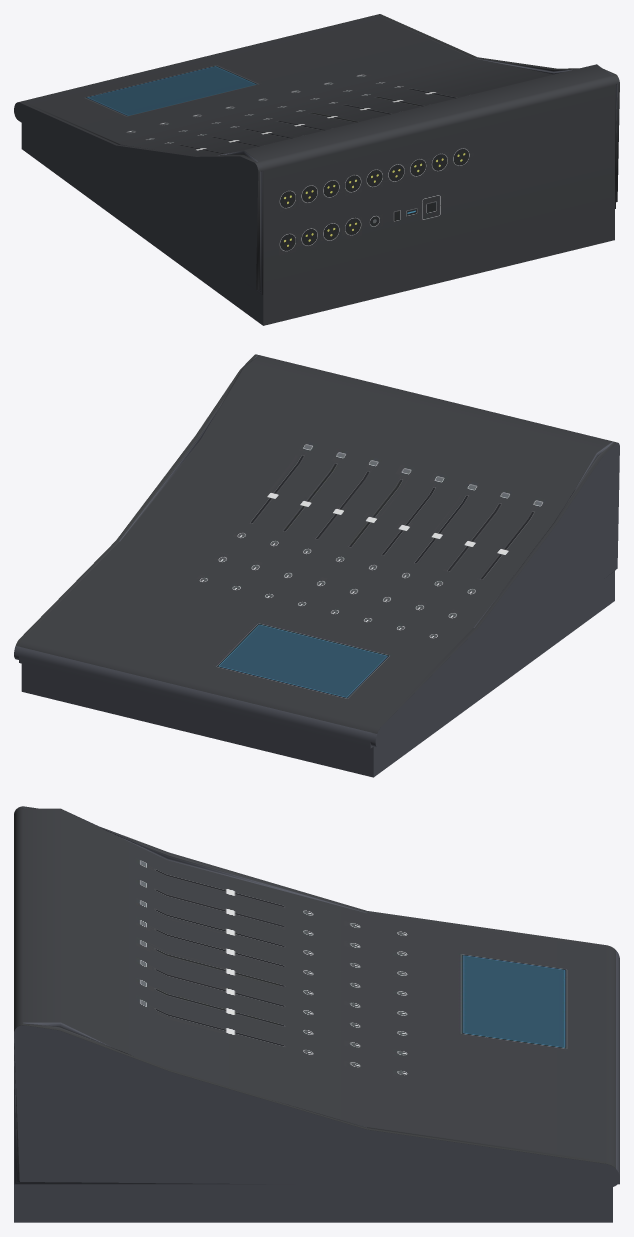
The model's file is allen-heath-sq-5.glb.
3 renders of one model, top to bottom at view 1: azimuth 30°, elevation 25°; view 2: azimuth 150°, elevation 25°; view 3: azimuth 270°, elevation 25°, orthographic. The views are drawn at different scales.
Parts seen in each view (by area): view 1: allen-heath-sq-5-body; view 2: allen-heath-sq-5-body; view 3: allen-heath-sq-5-body.
Boxes of the visible parts, bbox=[...] form: allen-heath-sq-5-body: bbox=[14, 14, 619, 325]; allen-heath-sq-5-body: bbox=[14, 354, 619, 777]; allen-heath-sq-5-body: bbox=[14, 806, 619, 1222].
Bounding box in the file's own units: 0.44 × 0.198 × 0.5149.
1 material, 1 textured.
